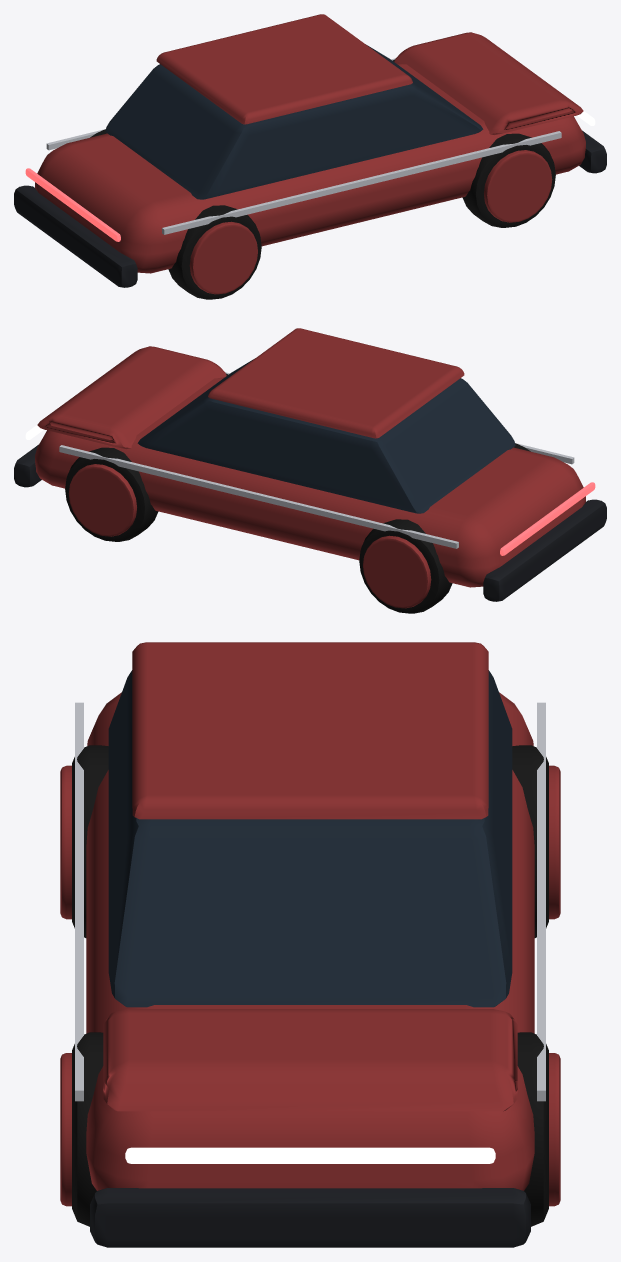
The model's file is ev-luxury.glb.
3 views of the same model, one above another, from view 1: azimuth 30°, elevation 25°; view 2: azimuth 150°, elevation 25°; view 3: azimuth 270°, elevation 25° (orthographic). The views are drawn at different scales.
Parts seen in each view (by area): view 1: part-paint, part-glass, part-trim, wheel--11--1-aero, wheel-+11--1-aero, part-chrome, wheel--11--1-tyre, wheel-+11--1-tyre, part-taillight; view 2: part-paint, part-glass, part-trim, wheel--11-1-aero, wheel-+11-1-aero, part-chrome, wheel--11-1-tyre, wheel-+11-1-tyre, part-taillight; view 3: part-paint, part-glass, part-trim, part-chrome, lightbar-front, wheel-+11-1-tyre, wheel-+11--1-tyre, wheel--11-1-tyre, wheel--11--1-tyre, wheel--11-1-aero, wheel--11--1-aero, wheel-+11-1-aero (+1 smaller).
Boxes of the visible parts, x1,y1,x2,y2 form: part-paint: (35,14,585,273); part-glass: (105,45,483,199); part-trim: (14,130,606,287); wheel--11--1-aero: (189,221,257,294); wheel-+11--1-aero: (484,150,552,222); part-chrome: (46,58,561,234); wheel--11--1-tyre: (168,205,261,299); wheel-+11--1-tyre: (462,133,555,227); part-taillight: (25,168,120,241); part-paint: (35,328,585,587); part-glass: (137,359,515,513); part-trim: (14,444,606,601); wheel--11-1-aero: (363,535,431,608); wheel-+11-1-aero: (68,464,136,536); part-chrome: (59,372,574,548); wheel--11-1-tyre: (359,519,452,613); wheel-+11-1-tyre: (65,447,158,541); part-taillight: (500,482,595,555); part-paint: (86,642,534,1190); part-glass: (108,670,512,1007); part-trim: (90,1188,530,1247); part-chrome: (75,702,545,1101); lightbar-front: (125,1147,495,1163); wheel-+11-1-tyre: (517,1032,548,1226); wheel-+11--1-tyre: (72,1032,103,1226); wheel--11-1-tyre: (512,745,548,937); wheel--11--1-tyre: (72,745,108,937); wheel--11-1-aero: (549,765,560,919); wheel--11--1-aero: (60,765,71,919); wheel-+11-1-aero: (549,1053,560,1206).
Size of the model in its own units: 38.2 by 12.3 by 16.9.
